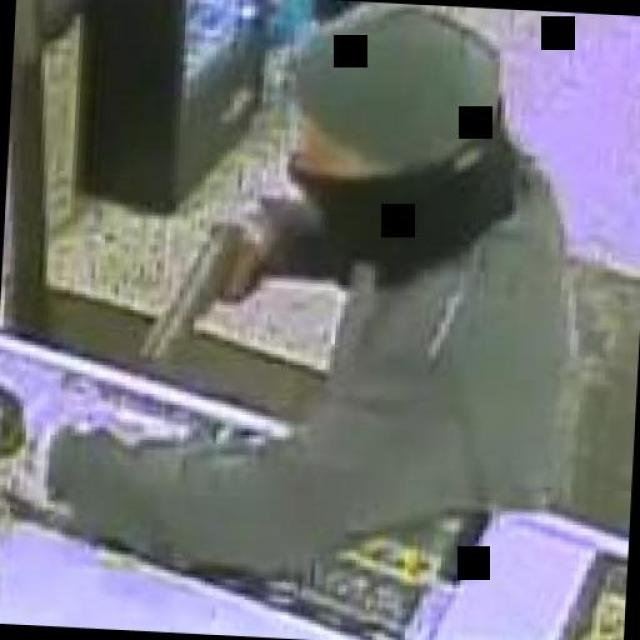gun: (132, 205, 272, 370)
